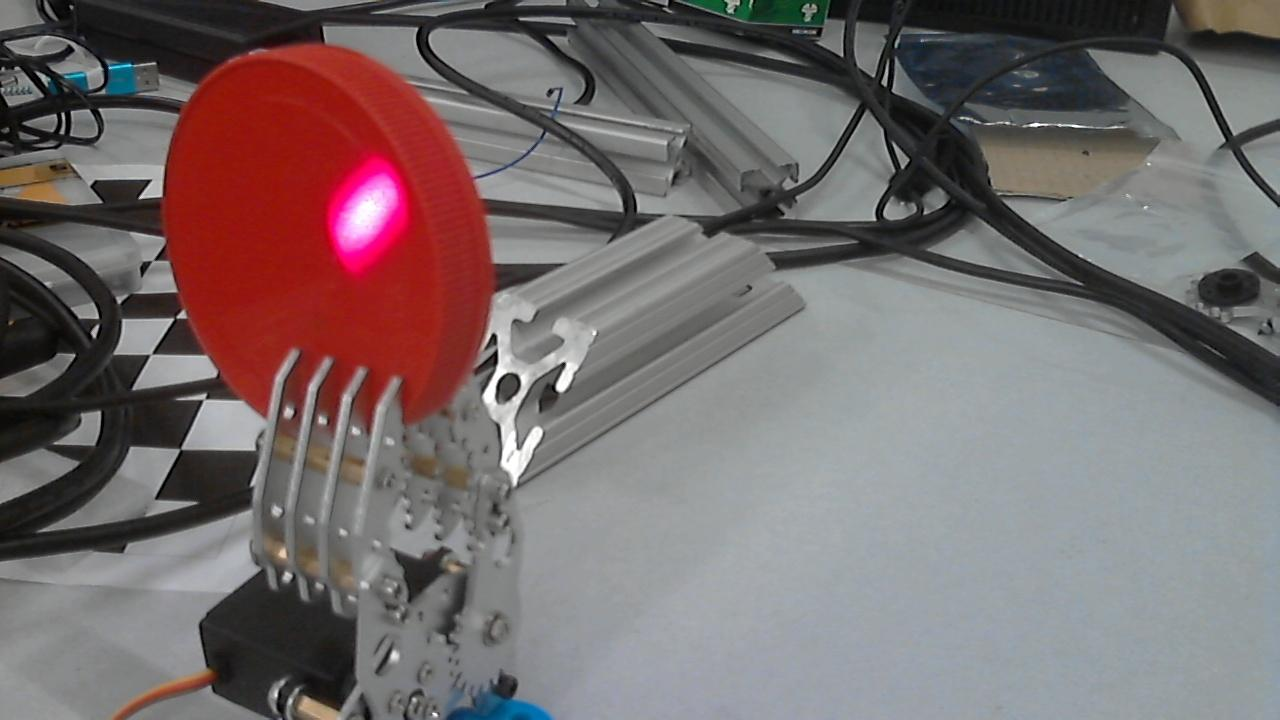Object plastic container lid - Material plastic - Color red - Pdfname ZC63DBkv6o: (295, 150, 435, 281)
